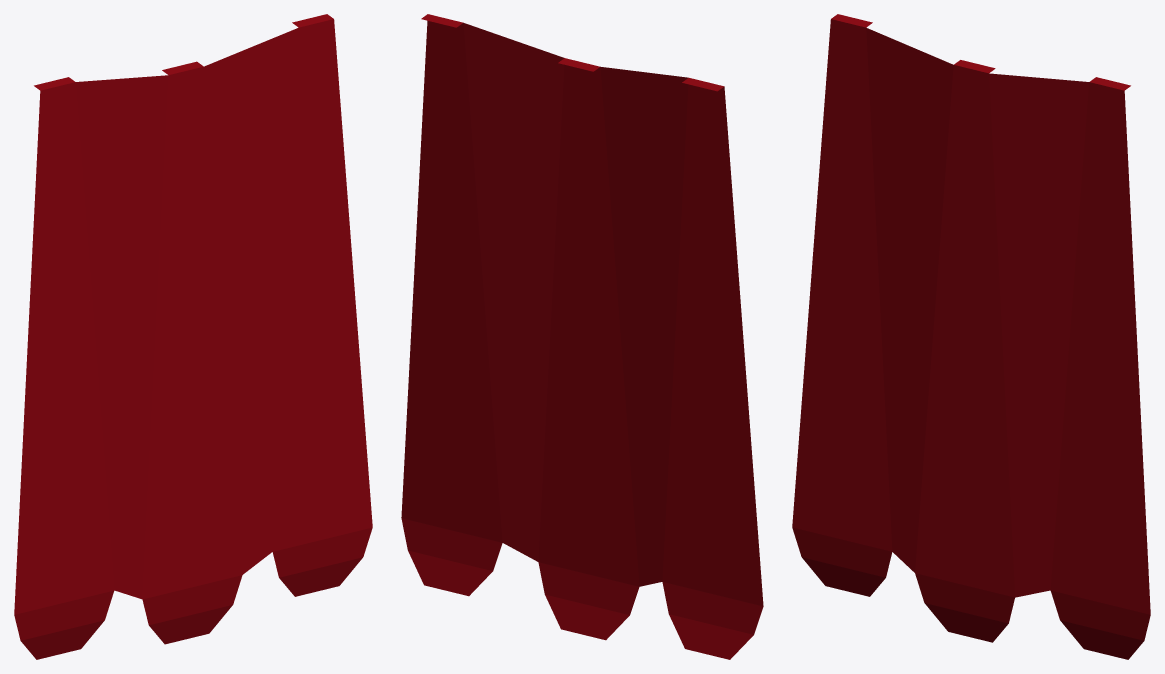
Rendered from Curtain.glb.
3 renders of one model, left to right at view 1: azimuth 30°, elevation 25°; view 2: azimuth 150°, elevation 25°; view 3: azimuth 330°, elevation 25°, orthographic.
Visible parts, largest first — view 1: Cube; view 2: Cube; view 3: Cube.
Part boxes in pixels (x1,y1,x2,y2): Cube: [14, 14, 372, 659]; Cube: [401, 14, 763, 659]; Cube: [792, 14, 1150, 659].
Bounding box in the file's own units: 7.16 × 11.08 × 0.5489.
